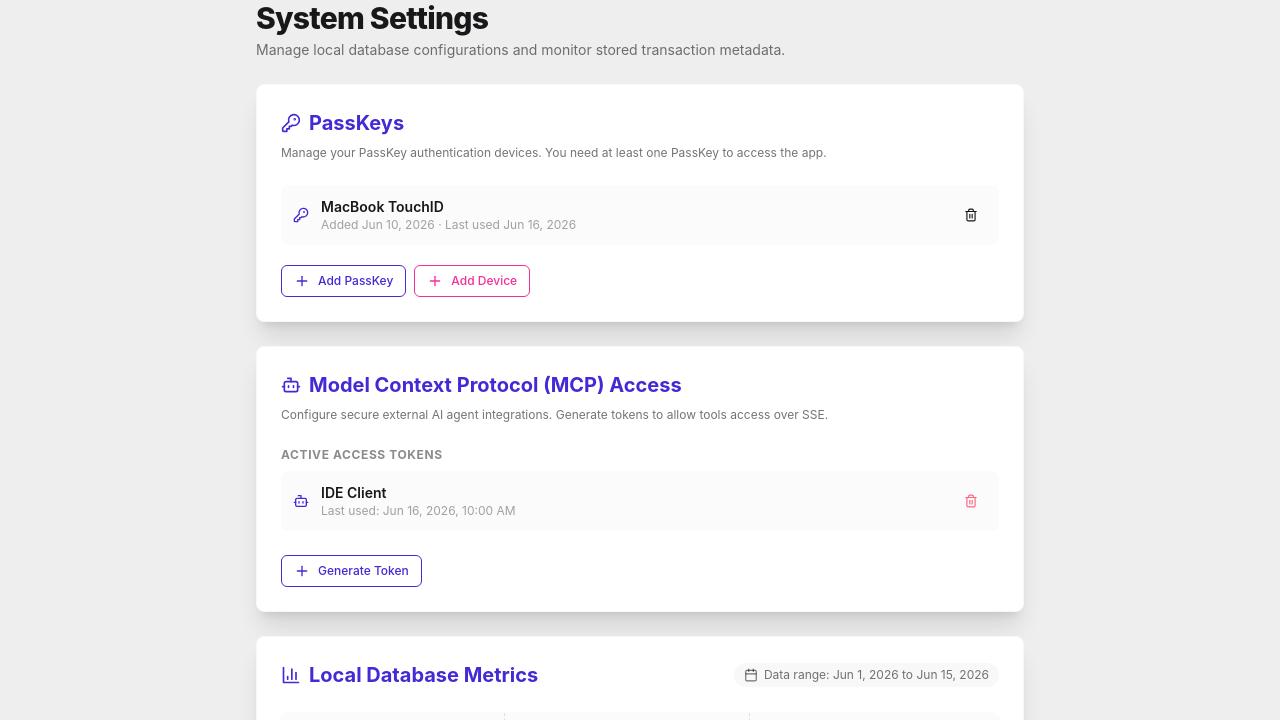
Test: McpSection API & interactive behaviors › prompts revocation warning modal and revokes access token
What coordinates should you click on to do the following:
click the button named "Revoke - IDE Client"
I would click on:
 (971, 501)
Its box is [955, 489, 987, 513].
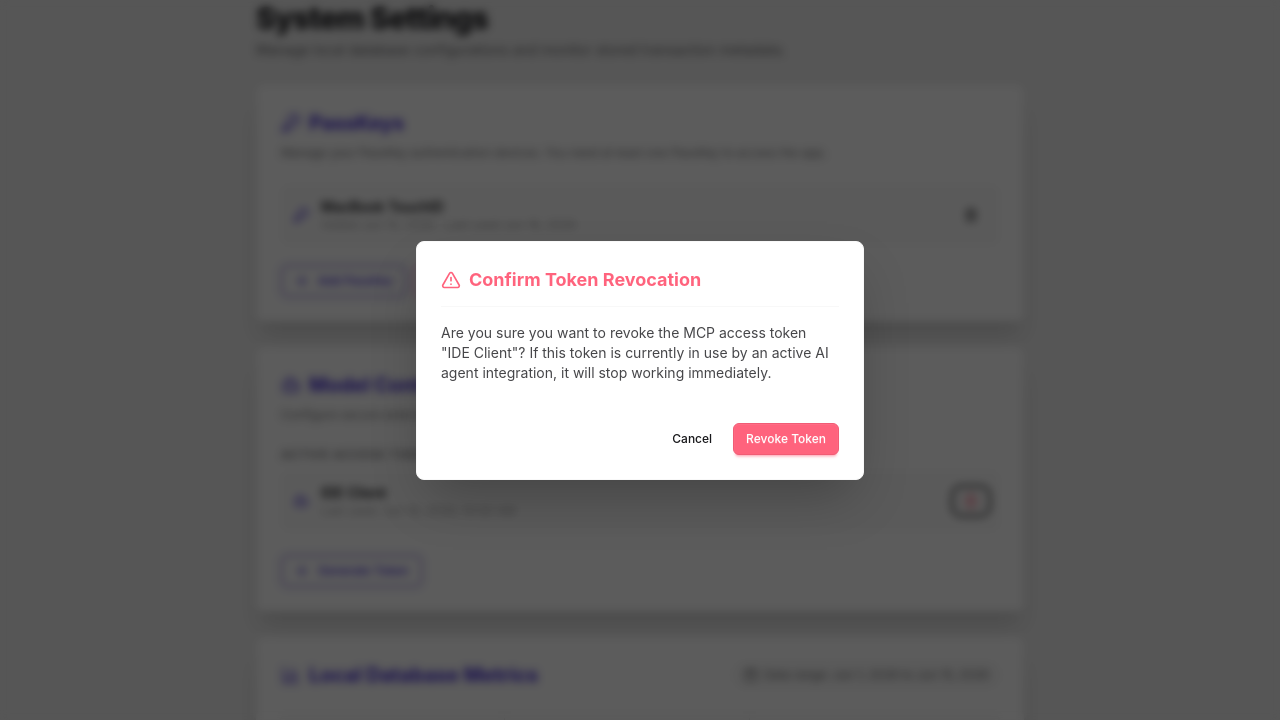
Now the heading "Confirm Token Revocation" is shown, box [441, 266, 701, 294]
What coordinates should you click on to do the following:
click the button "Revoke Token"
I would click on:
 (786, 438)
Its box is [733, 422, 839, 454].
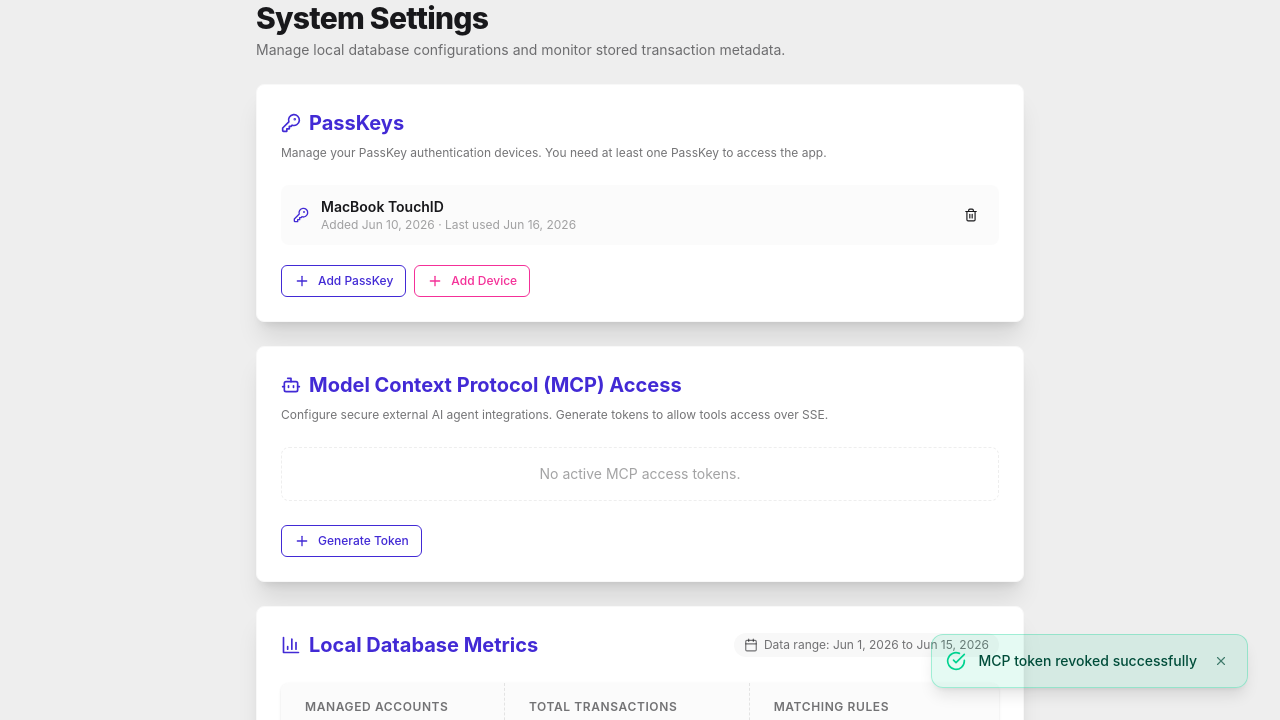
Now the text "MCP token revoked successfully" is shown, box [978, 651, 1197, 671]
